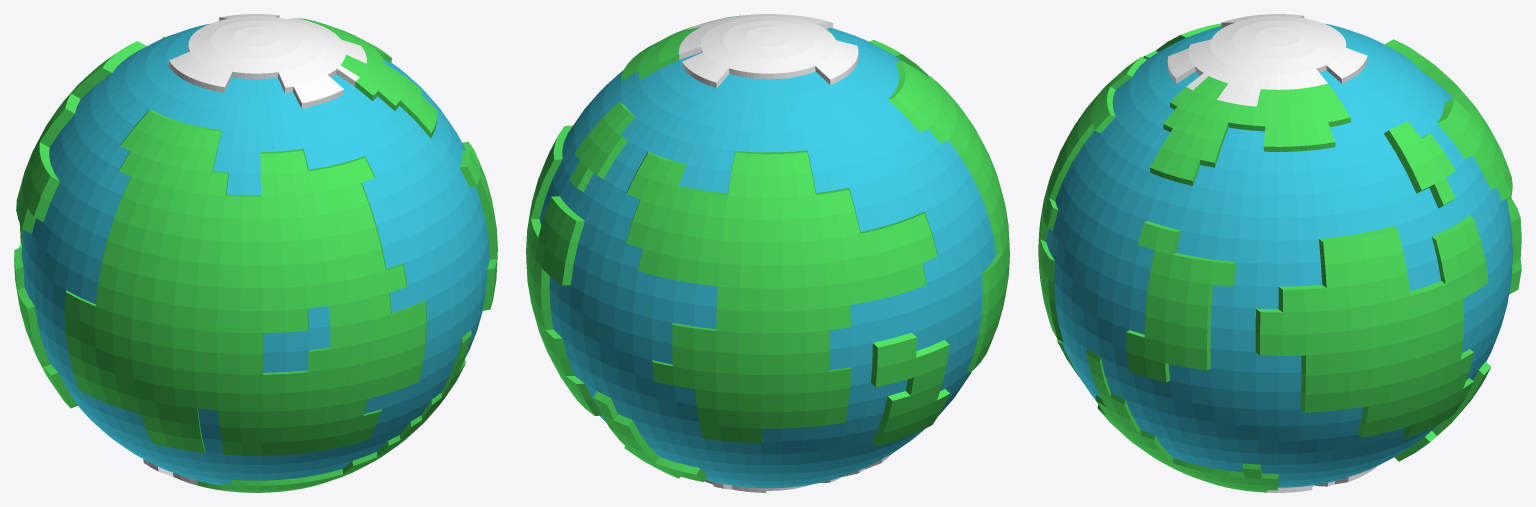
The model's file is EcoGuard_Earth.fbx.
3 views of the same model, side by side, from view 1: azimuth 30°, elevation 25°; view 2: azimuth 150°, elevation 25°; view 3: azimuth 270°, elevation 25° (orthographic).
Visible parts, largest first — view 1: Sphere; view 2: Sphere; view 3: Sphere.
Boxes of the visible parts, left/top/right/bottom form: Sphere: left=14, top=14, right=497, bottom=492; Sphere: left=526, top=14, right=1009, bottom=492; Sphere: left=1038, top=14, right=1521, bottom=492.
Size of the model in its own units: 514 by 515 by 519.
